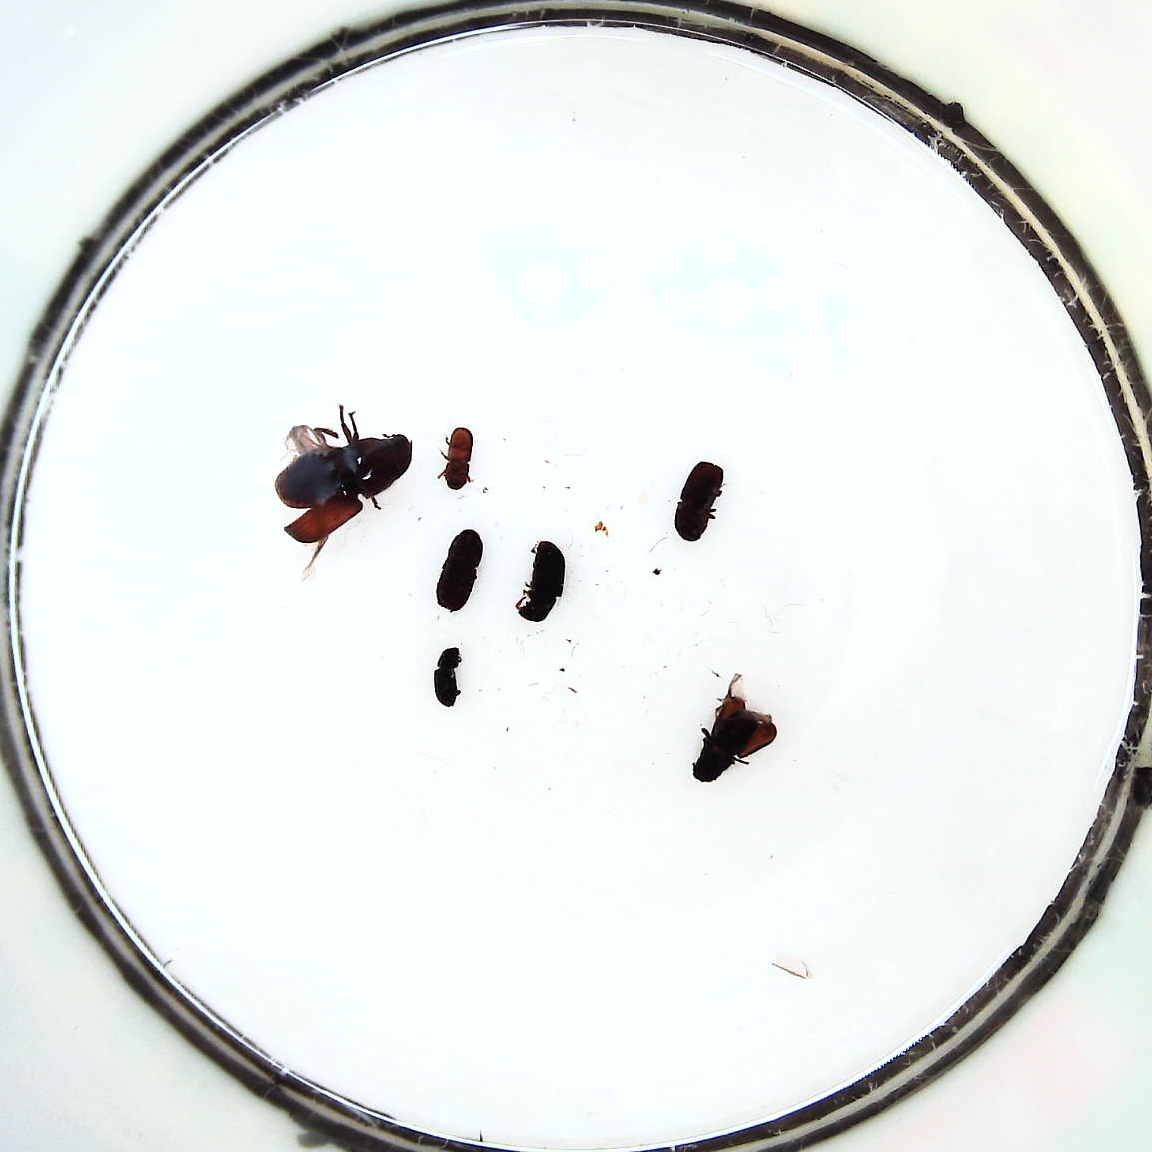Leconte: (268, 416, 417, 544), (691, 690, 780, 783)
Linnaeus: (673, 460, 727, 544), (434, 527, 485, 615)
acuminatus: (442, 423, 476, 493)
armandi: (517, 536, 567, 625)
coleoptera: (433, 644, 465, 710)
